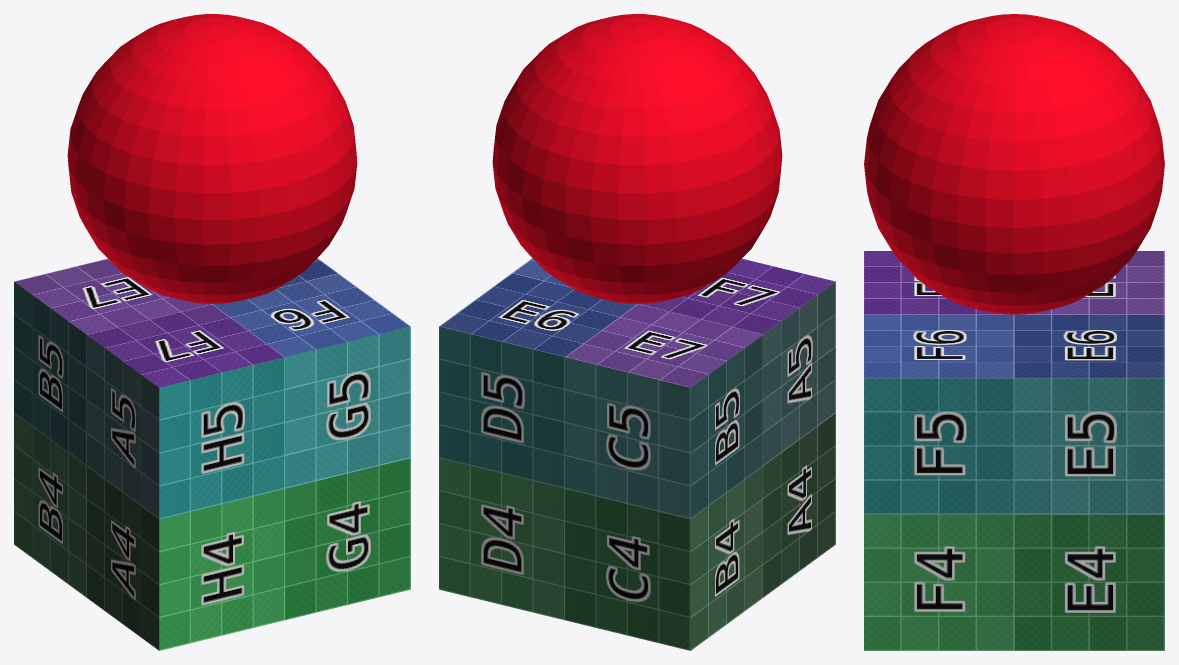
3 renders of one model, left to right at view 1: azimuth 30°, elevation 25°; view 2: azimuth 150°, elevation 25°; view 3: azimuth 270°, elevation 25°, orthographic. The views are drawn at different scales.
Parts seen in each view (by area): view 1: Cube.001; view 2: Cube.001; view 3: Cube.001.
Boxes of the visible parts, x1,y1,x2,y2 form: Cube.001: (14, 14, 410, 650); Cube.001: (439, 14, 835, 650); Cube.001: (864, 14, 1164, 650).
Size of the model in its own units: 200 by 410 by 200.
Materials: 2 (1 with a texture image).
